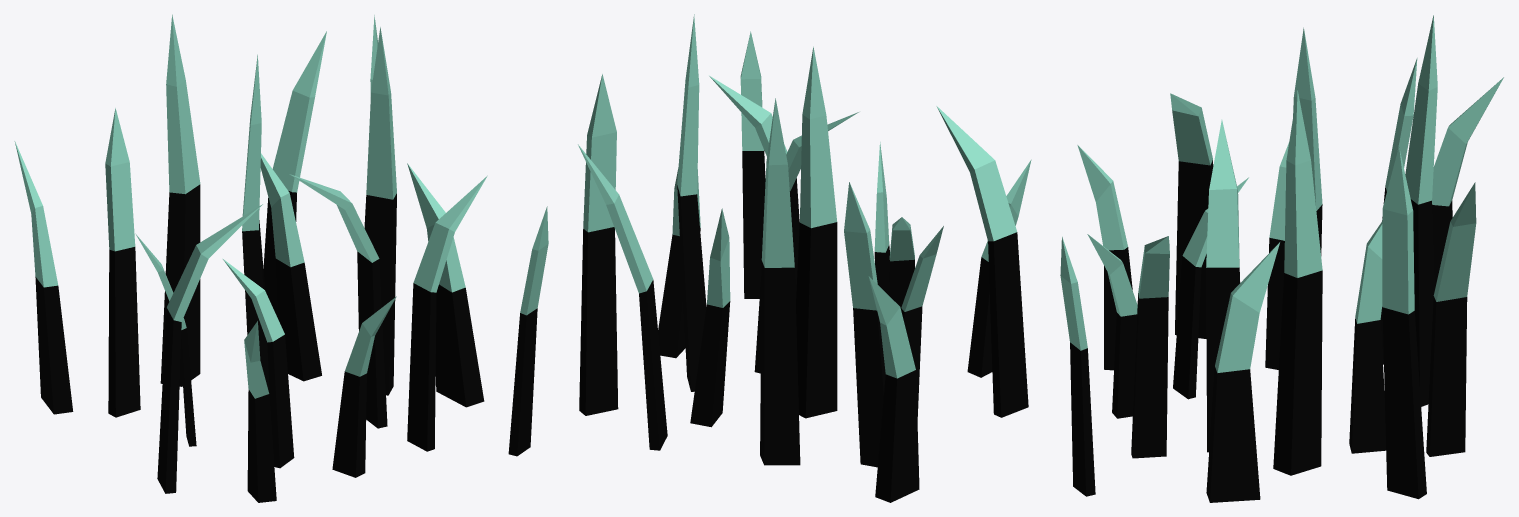
File: Grass-1.fbx
3 renders of one model, left to right at view 1: azimuth 30°, elevation 25°; view 2: azimuth 150°, elevation 25°; view 3: azimuth 270°, elevation 25°, orthographic. The views are drawn at different scales.
Parts seen in each view (by area): view 1: Grass-1; view 2: Grass-1; view 3: Grass-1.
Part boxes in pixels (bbox=[...]): Grass-1: bbox=[14, 14, 548, 502]; Grass-1: bbox=[578, 14, 1031, 502]; Grass-1: bbox=[1060, 15, 1503, 502].
Bounding box in the file's own units: 0.1813 × 0.184 × 0.1938.
